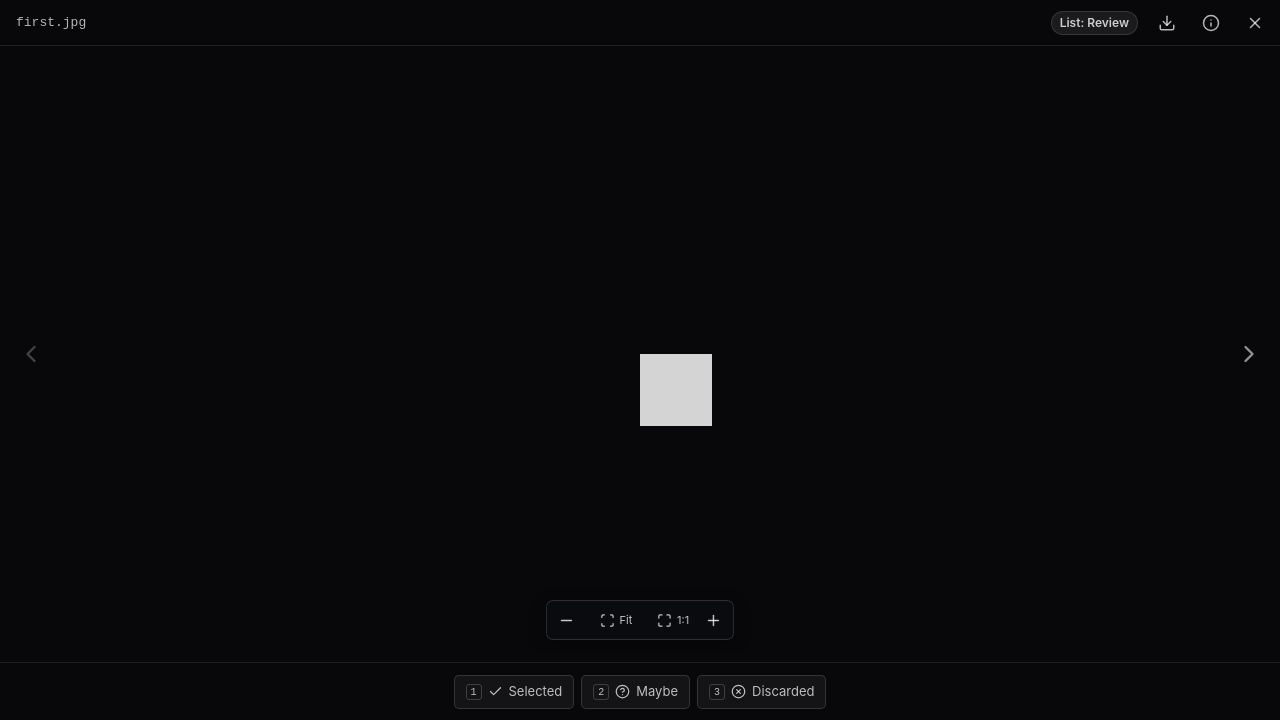
Test case: Viewer technical details › offers a retry after a metadata request fails
Step 1. Click the button named "Show details" → (1211, 22), box x1=1196 y1=8 x2=1226 y2=38
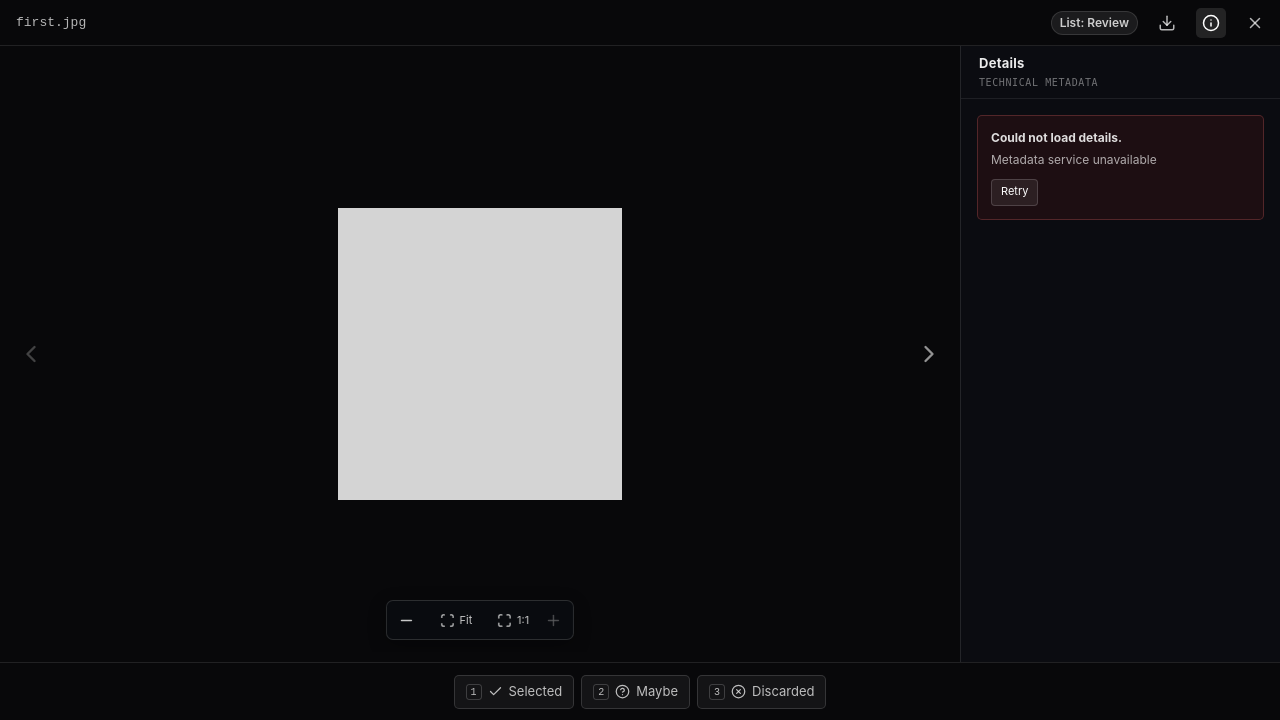
Now the text "Metadata service unavailable" is shown, box x1=991 y1=152 x2=1157 y2=167
Step 2. Click the button "Retry" → (1015, 192), box x1=991 y1=179 x2=1038 y2=206
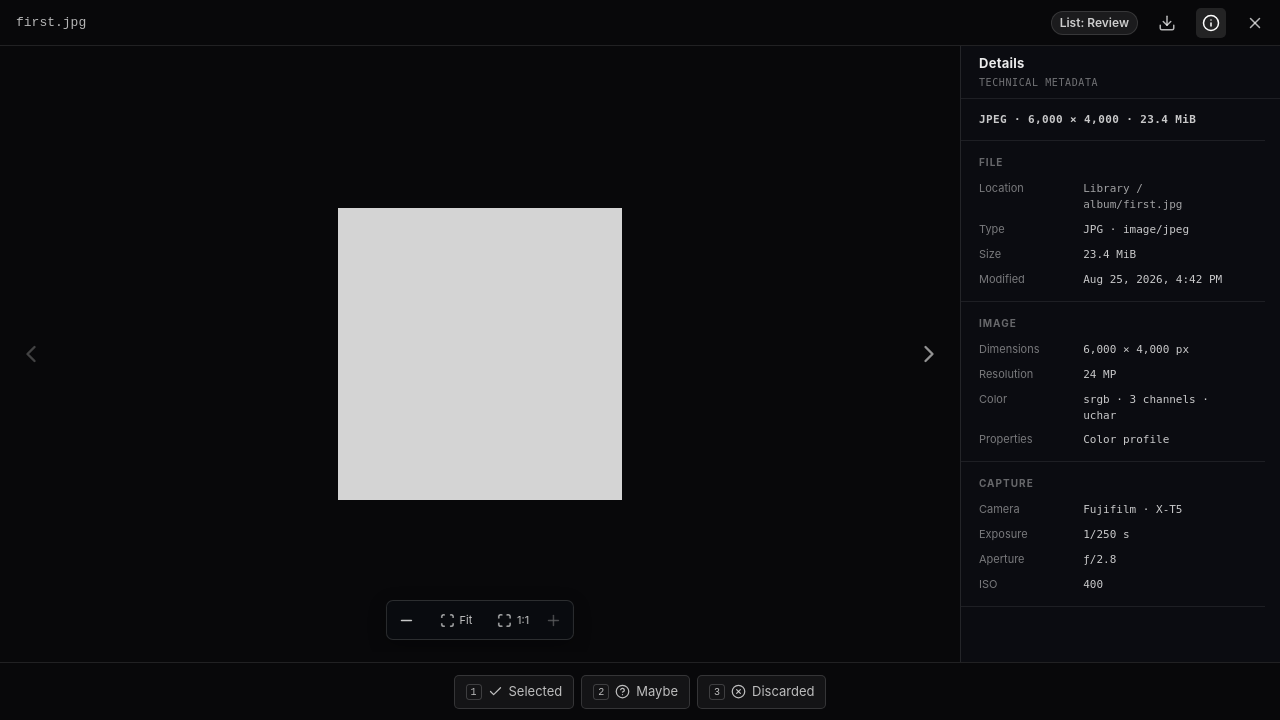
Now the text "Library / album/first.jpg" is shown, box x1=1083 y1=182 x2=1182 y2=211
